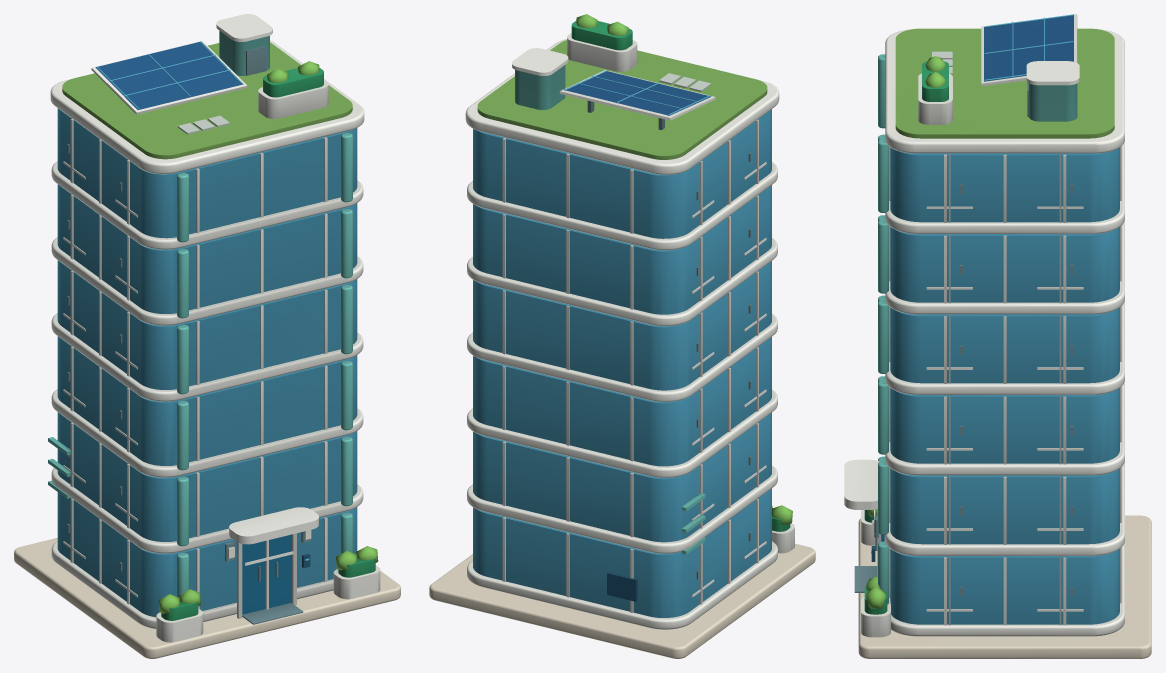
The model's file is townhouse-sage.glb.
3 renders of one model, left to right at view 1: azimuth 30°, elevation 25°; view 2: azimuth 150°, elevation 25°; view 3: azimuth 270°, elevation 25°, orthographic. The views are drawn at different scales.
Parts seen in each view (by area): view 1: continuous blue glazing, floor rim, green roof, coloured facade fin, paved building footprint, photovoltaic cells, recessed entrance, planter foliage, roof access hatch, shrub tip; view 2: continuous blue glazing, floor rim, green roof, paved building footprint, photovoltaic cells, coloured facade fin, planter foliage, shrub tip, entry intercom, roof access hatch; view 3: continuous blue glazing, floor rim, green roof, paved building footprint, coloured facade fin, photovoltaic cells, building movement joint, roof access hatch, planter foliage, shrub tip.
Boxes of the visible parts, left/top/right/bottom form: continuous blue glazing: left=57, top=41, right=357, bottom=617; floor rim: left=50, top=14, right=380, bottom=642; green roof: left=62, top=42, right=352, bottom=159; coloured facade fin: left=48, top=31, right=352, bottom=597; paved building footprint: left=14, top=538, right=400, bottom=658; photovoltaic cells: left=95, top=41, right=243, bottom=109; recessed entrance: left=242, top=534, right=291, bottom=614; planter foliage: left=161, top=68, right=375, bottom=620; roof access hatch: left=67, top=46, right=311, bottom=624; shrub tip: left=158, top=61, right=378, bottom=613; continuous blue glazing: left=473, top=70, right=771, bottom=617; floor rim: left=465, top=33, right=794, bottom=629; green roof: left=477, top=40, right=767, bottom=159; paved building footprint: left=429, top=543, right=815, bottom=658; photovoltaic cells: left=564, top=71, right=711, bottom=115; coloured facade fin: left=515, top=65, right=705, bottom=554; planter foliage: left=571, top=21, right=790, bottom=531; shrub tip: left=576, top=14, right=792, bottom=524; entry intercom: left=607, top=572, right=637, bottom=601; roof access hatch: left=587, top=100, right=751, bottom=579; continuous blue glazing: left=890, top=14, right=1119, bottom=624; floor rim: left=844, top=14, right=1124, bottom=637; green roof: left=895, top=28, right=1114, bottom=138; paved building footprint: left=858, top=515, right=1151, bottom=658; coloured facade fin: left=878, top=54, right=1077, bottom=604; photovoltaic cells: left=984, top=14, right=1073, bottom=81; building movement joint: left=949, top=153, right=1061, bottom=625; roof access hatch: left=854, top=82, right=1073, bottom=596; planter foliage: left=864, top=61, right=948, bottom=614; shrub tip: left=866, top=56, right=945, bottom=608.
Bounding box in the file's own units: 2.72 × 5.33 × 2.66.
